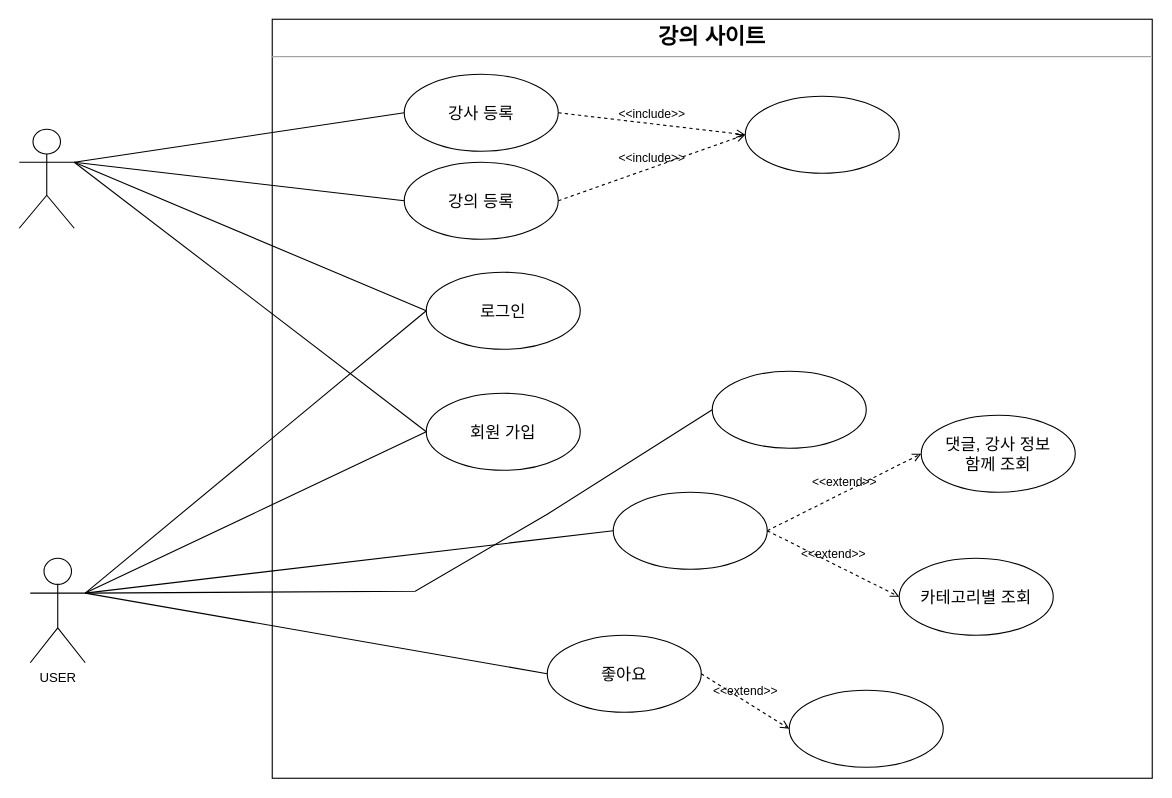
Some shapes in this 1172 by 798 pixel diagram are drawn without their labels. The centre of each missing label's shape, as x and y in pixels:
"ADMIN" goes at point 46,178.
"ADMIN 권한 확인" goes at point 821,134.
"강의 조회" goes at point 689,530.
"댓글 작성" goes at point 788,409.
"이미 좋아요 했다면 좋아요 취소" goes at point 865,728.
